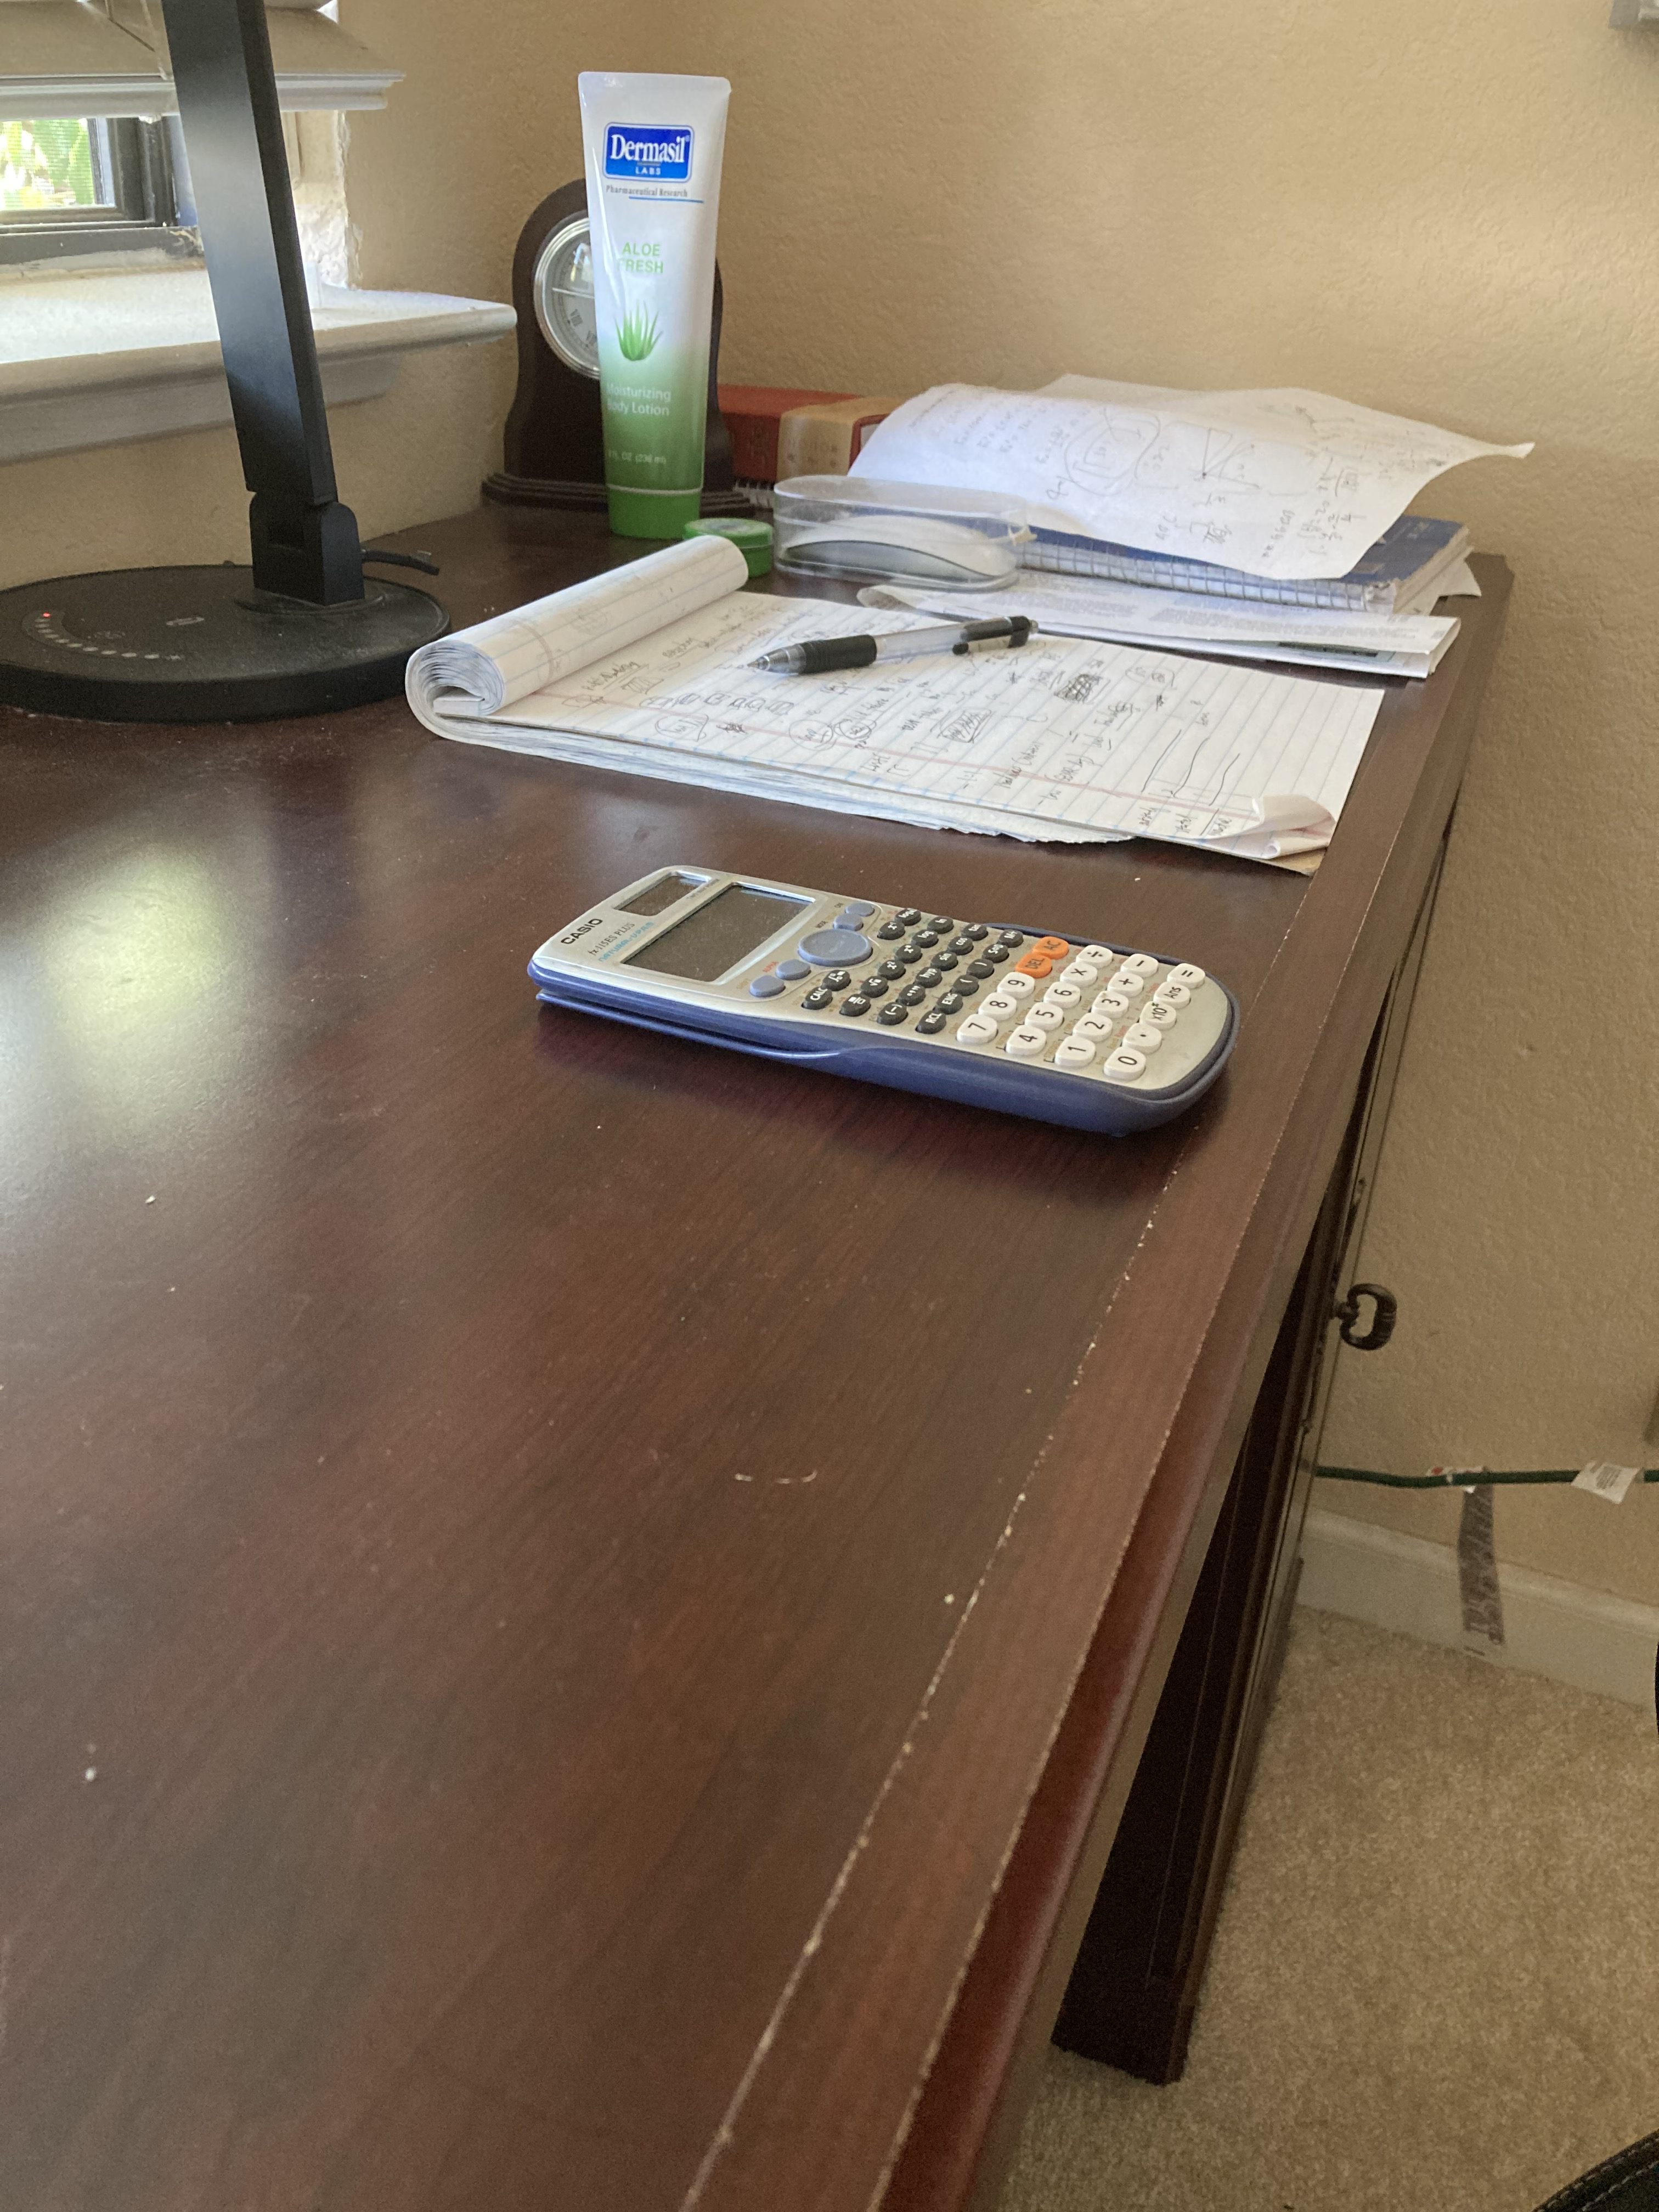Calculator: (521, 880, 1251, 1123)
